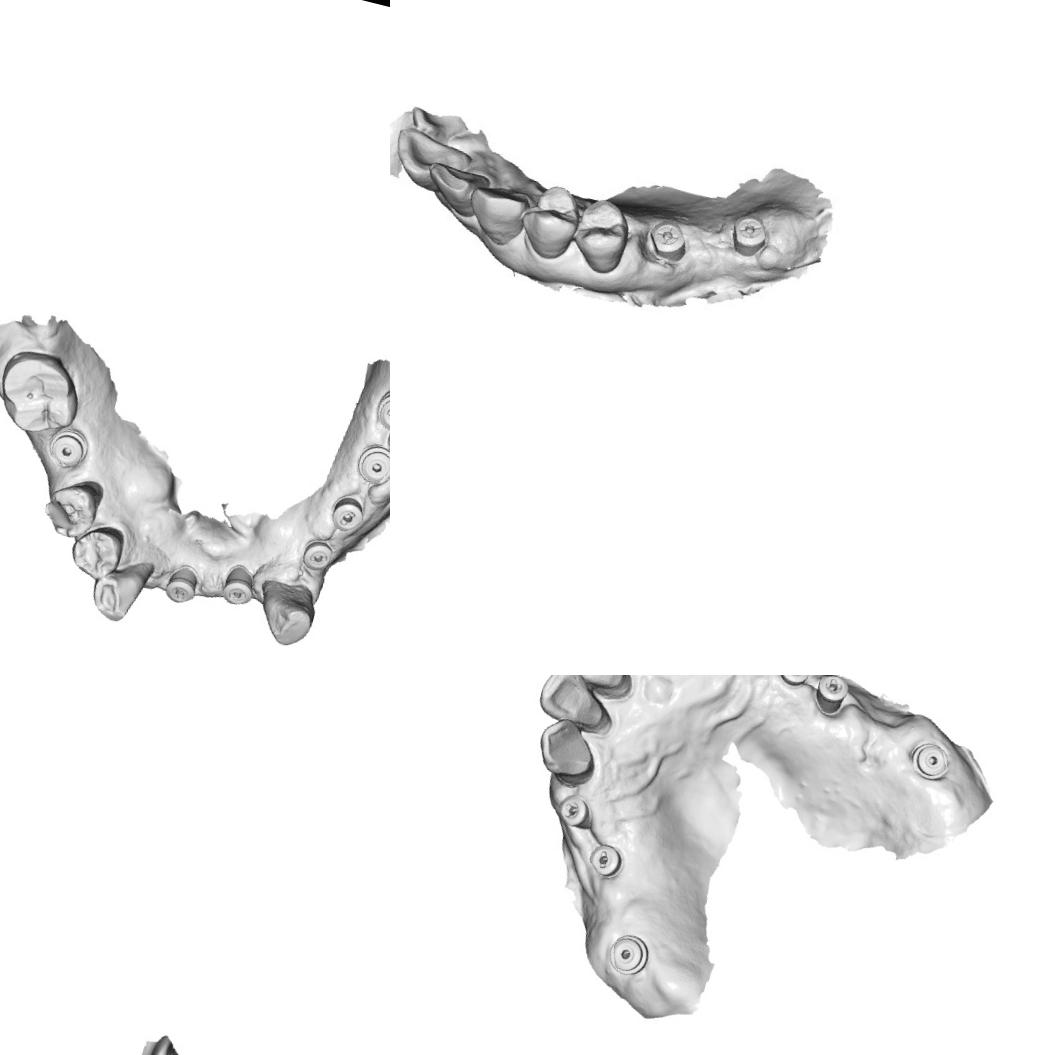canine: (530, 712, 604, 790), (248, 574, 322, 651), (84, 552, 154, 628), (462, 179, 532, 250)
implant: (602, 929, 654, 980), (902, 735, 955, 785), (43, 424, 92, 472), (351, 440, 390, 490)
implant_minus: (217, 561, 259, 609), (582, 839, 628, 882), (326, 492, 369, 536), (160, 562, 202, 606), (298, 536, 334, 573), (370, 385, 390, 437), (773, 675, 815, 689)
implant_plus: (724, 207, 774, 266), (644, 214, 690, 266), (809, 675, 852, 720), (552, 789, 598, 831)
incisor: (390, 116, 474, 193), (532, 675, 621, 737), (424, 161, 484, 216), (545, 675, 647, 700)
molar: (0, 342, 89, 442)
premolar: (516, 178, 581, 260), (38, 469, 108, 545), (568, 192, 632, 272), (64, 516, 128, 585)
